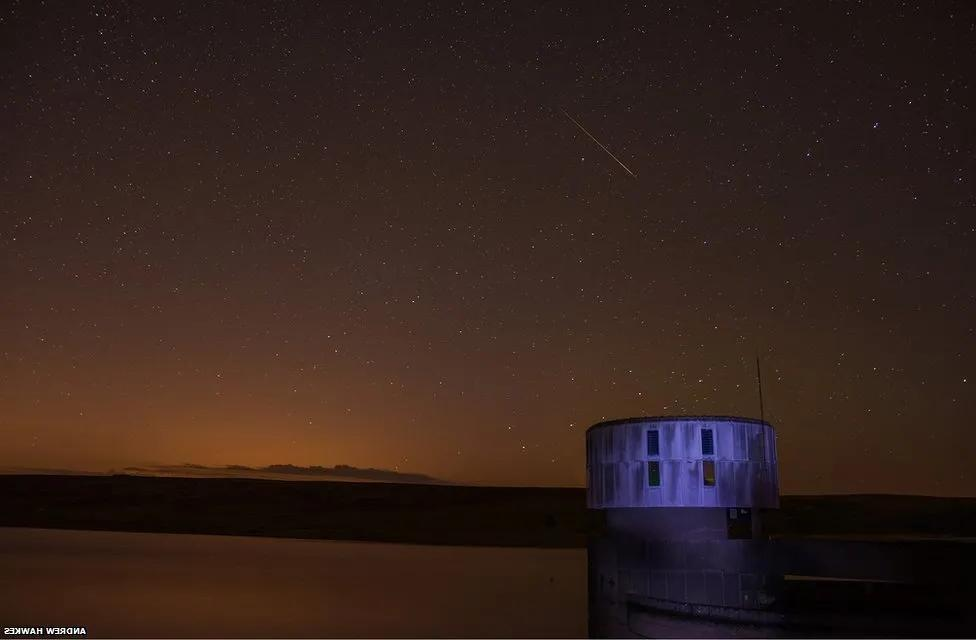meteorite: (546, 110, 647, 187)
